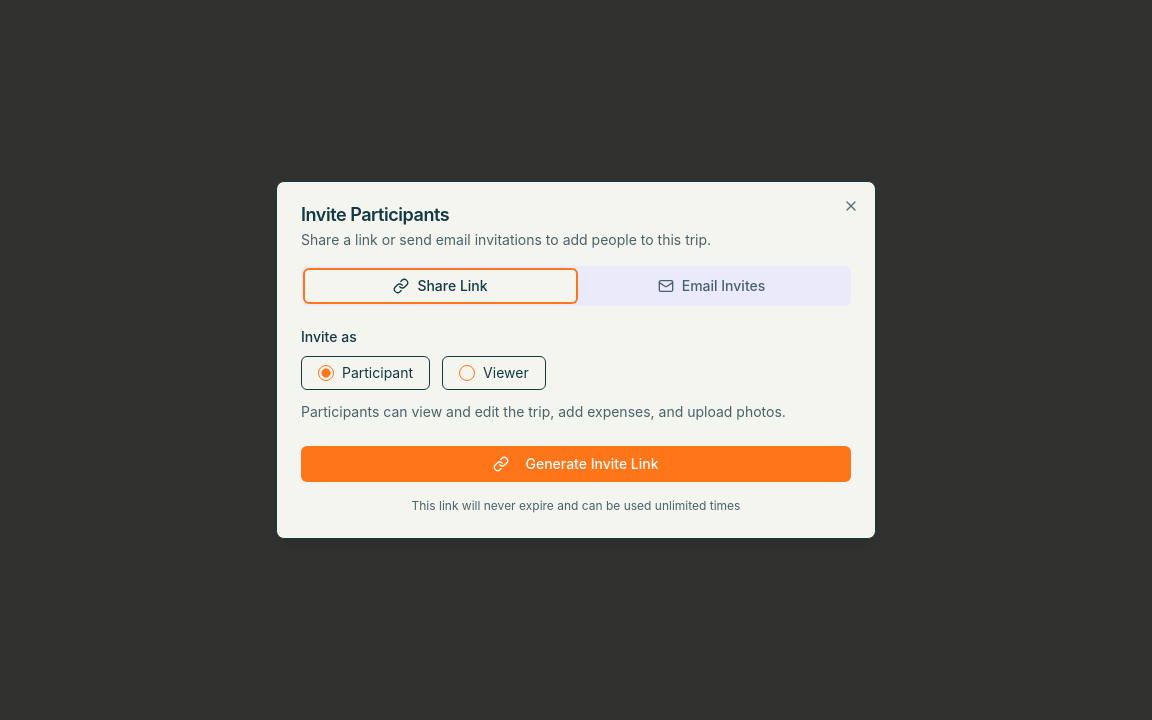
Test: InviteDialog - Participant Limit Paywall › Upgrade Dialog on Participant Limit › shows upgrade dialog when API returns not allowed for link generation
Expected: the heading "Invite Participants" is shown, [301,204,449,225]
Click "Generate Link" button
Click the button "Generate Invite Link" at (576, 464), box [301,446,851,482]
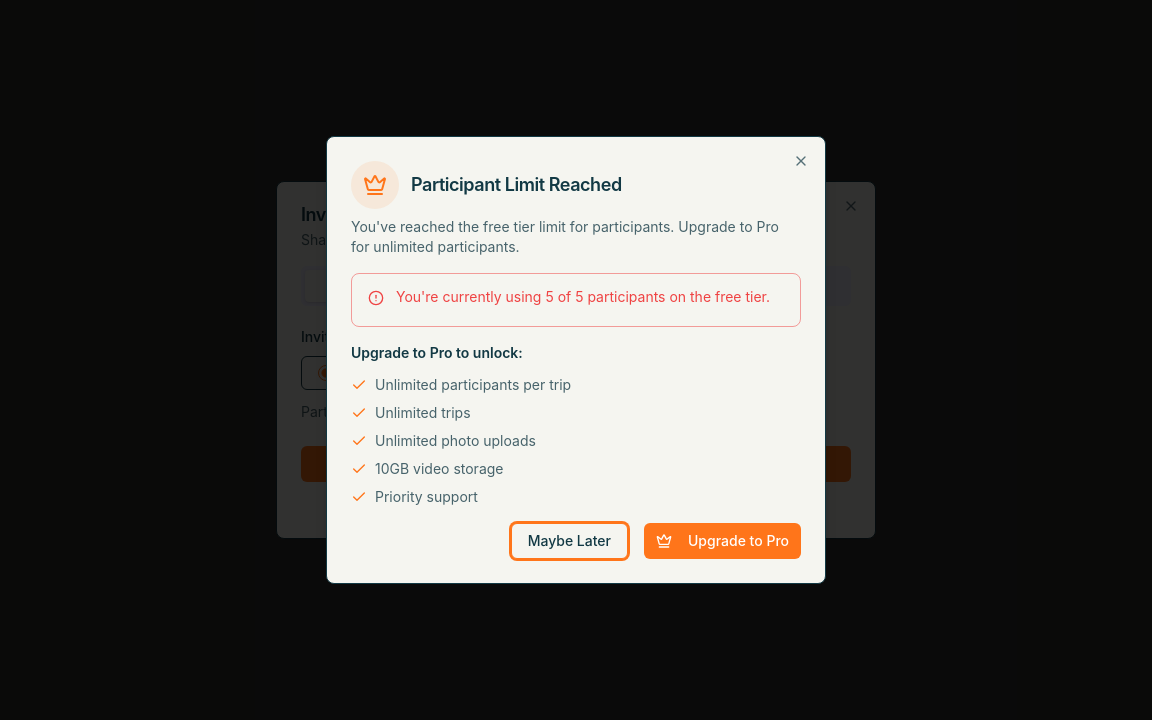
Now the heading "Participant Limit Reached" is shown, box [411,176,622,194]
Now the text "You've reached the free tier limit for participants. Upgrade to Pro for unlimited participants." is shown, box [351,218,779,255]
